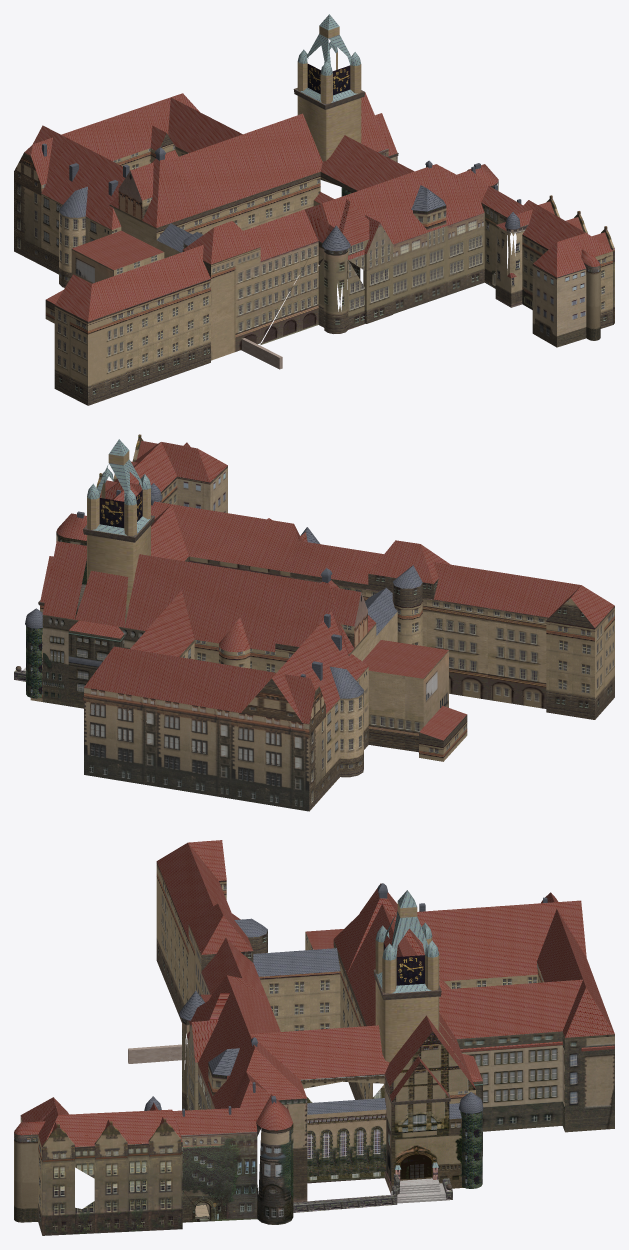
File: 1Georg-Schumann-Bau.gltf
3 renders of one model, top to bottom at view 1: azimuth 30°, elevation 25°; view 2: azimuth 150°, elevation 25°; view 3: azimuth 270°, elevation 25°, orthographic. The views are drawn at different scales.
Visible parts, largest first — view 1: Dach.1; view 2: Dach.1; view 3: Dach.1.
Part boxes in pixels (x1,y1,x2,y2): Dach.1: (14,14,614,405); Dach.1: (14,434,614,811); Dach.1: (14,840,614,1235).
Bounding box in the file's own units: 126 × 56.88 × 114.
Materials: 50 (50 with a texture image).
